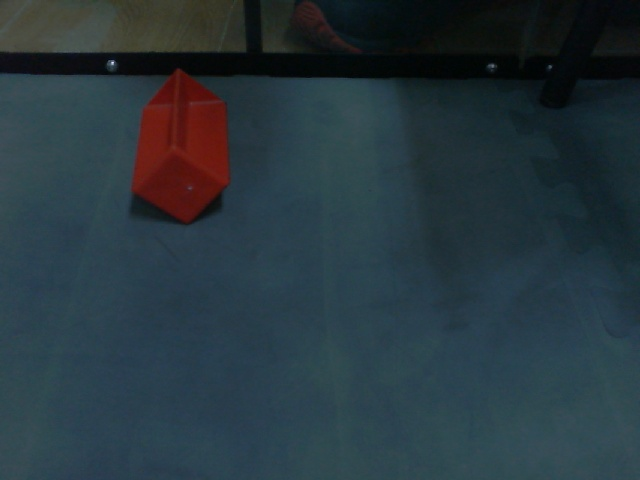RedSample: (131, 68, 233, 228)
